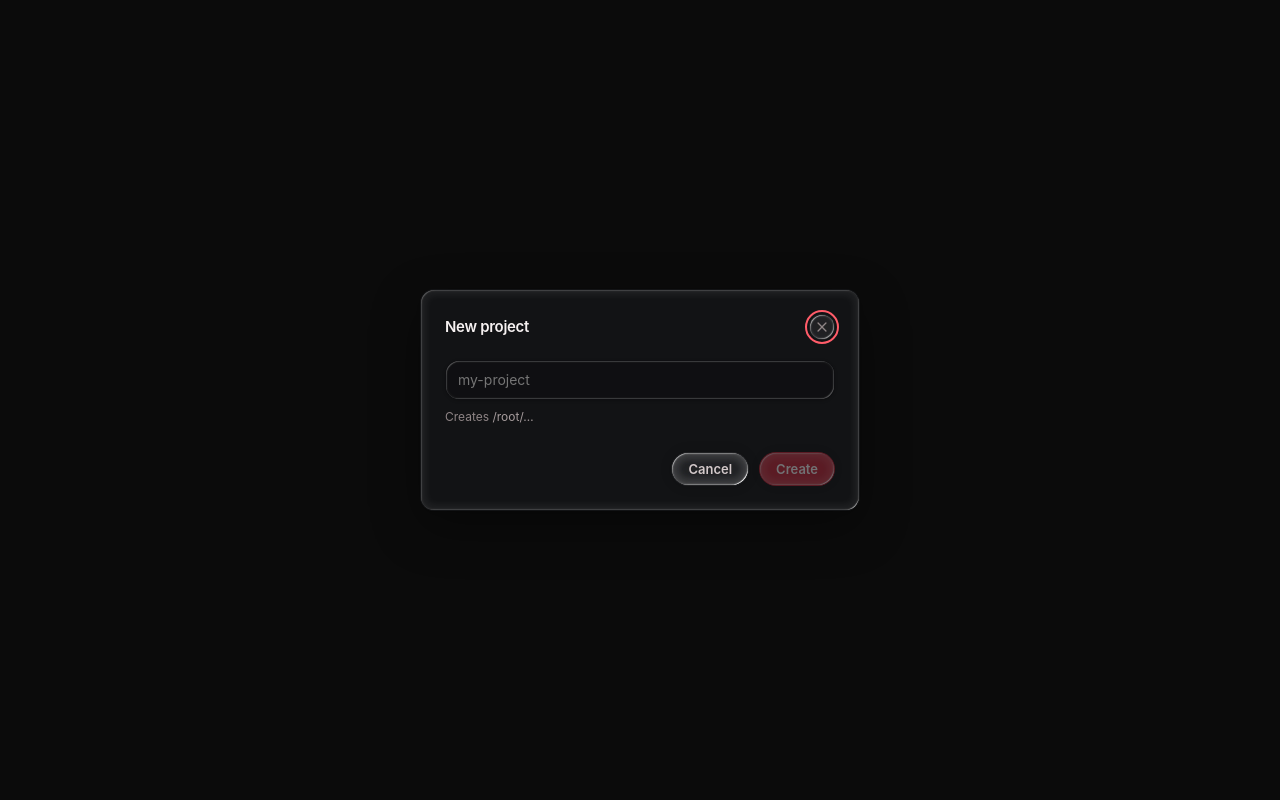
Test: NewProjectModal › goes back to creating when the name changes
The image size is (1280, 800).
Type "test" into the field with placeholder "my-project". click: (640, 380)
box: top-left (445, 360), bottom-right (835, 400)
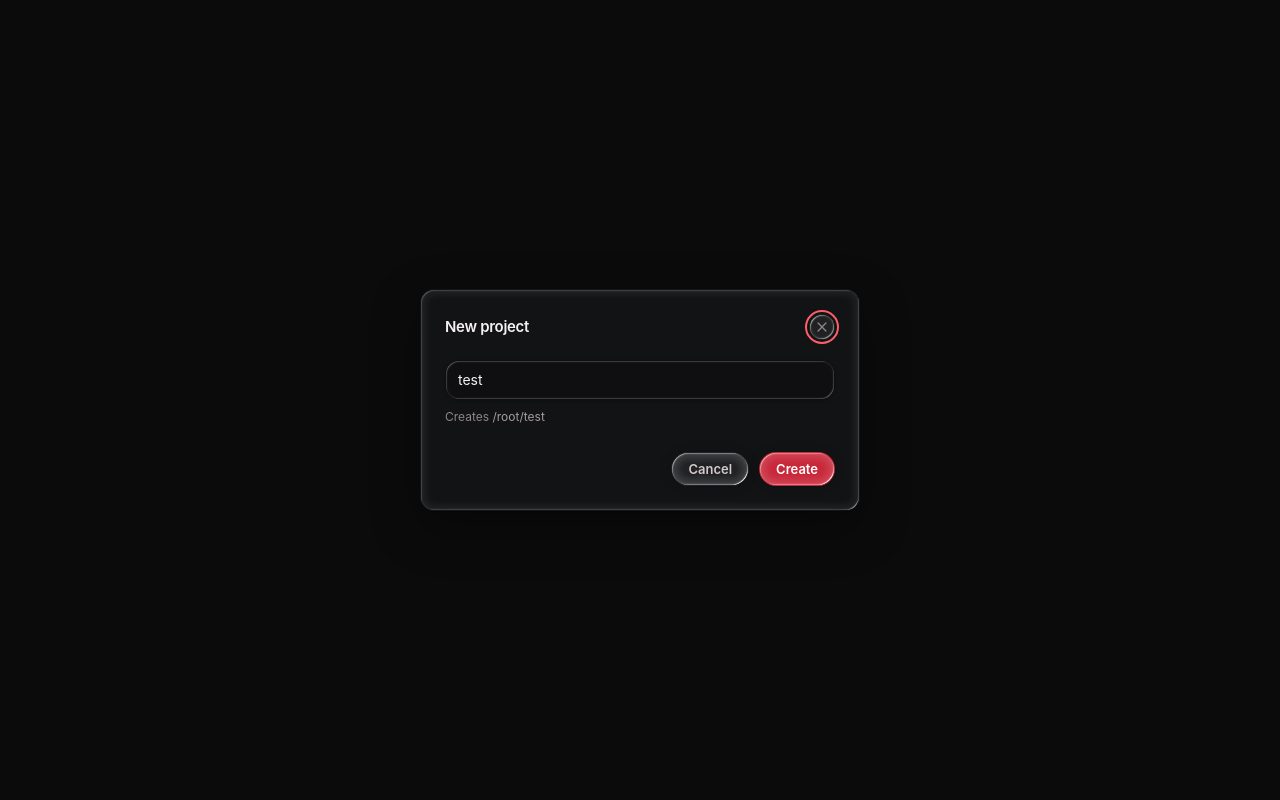
Click the button "Create". click: (797, 469)
box: top-left (759, 452), bottom-right (835, 486)
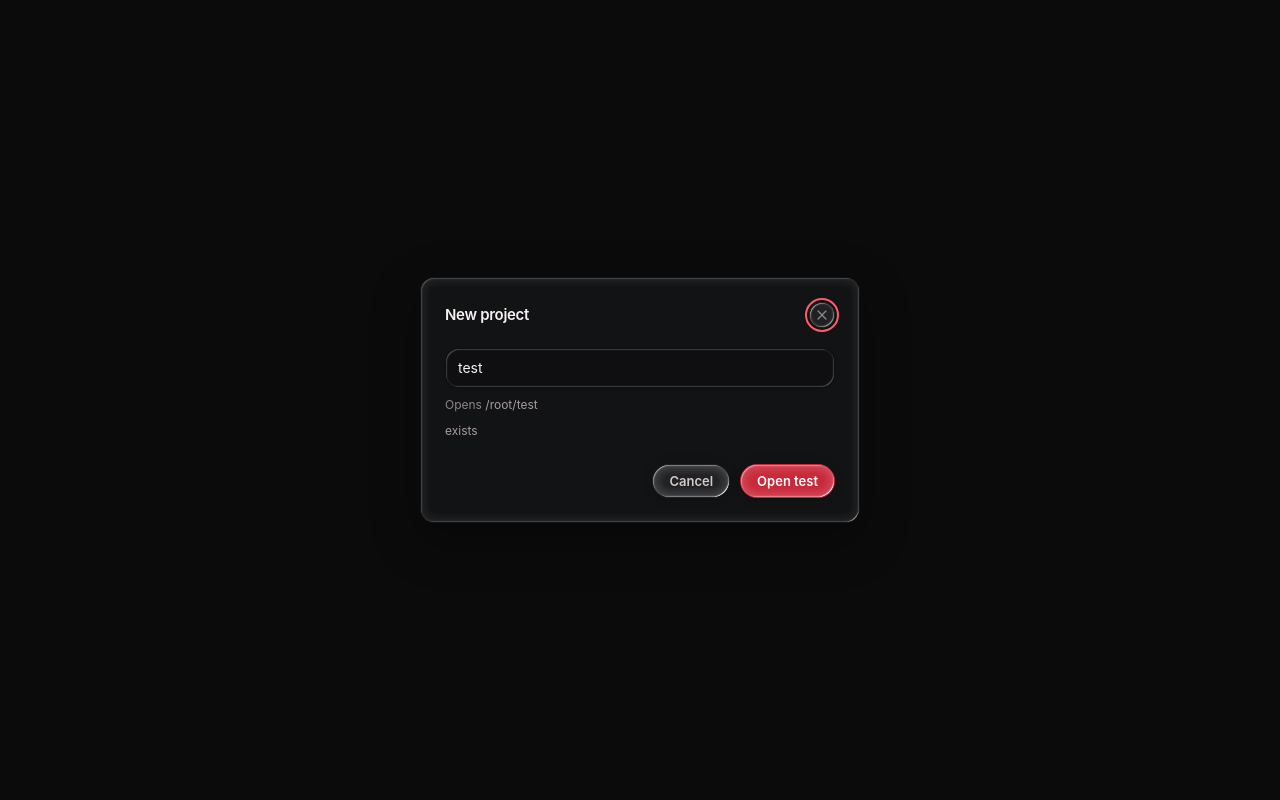
Result: the button "Open test" is shown at top-left (740, 464), bottom-right (835, 498)
Replace the text in the field with placeholder "my-project" with "other". click: (640, 368)
box: top-left (445, 348), bottom-right (835, 388)
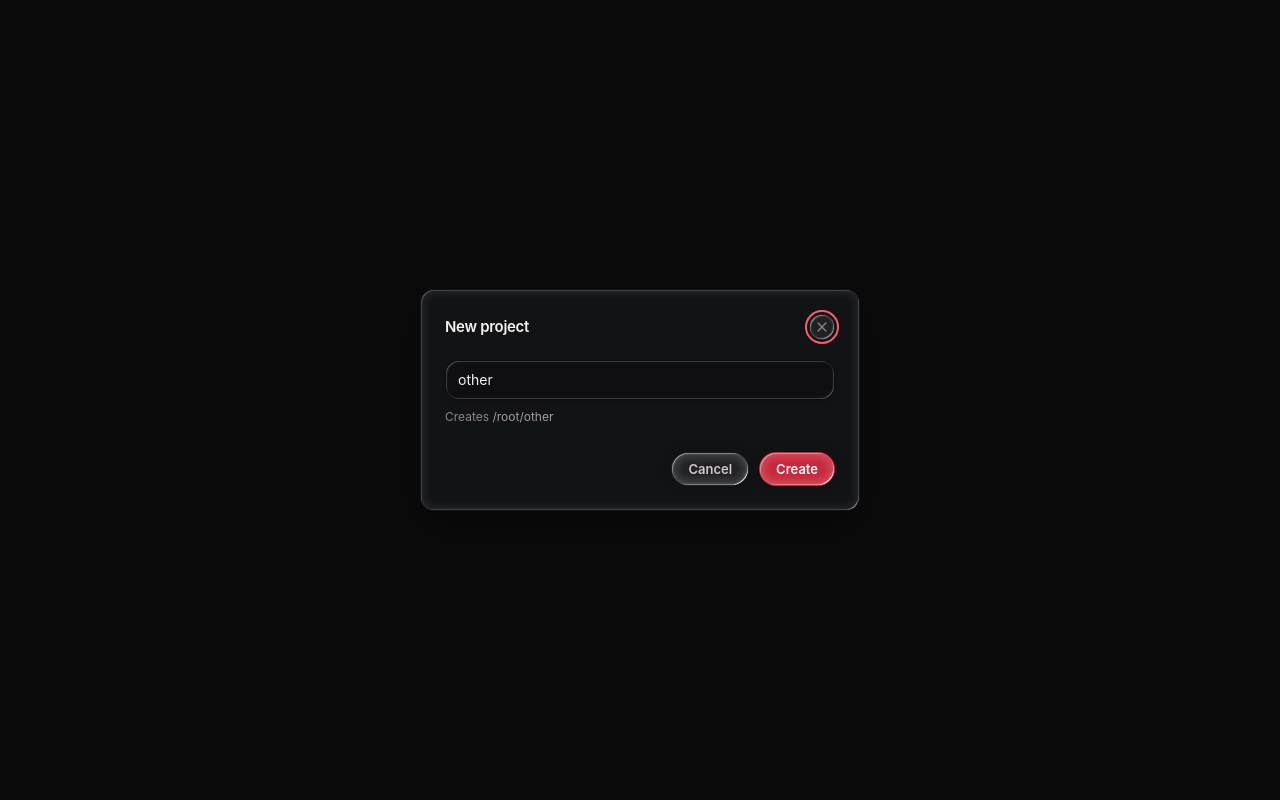
Result: the button "Create" is shown at top-left (759, 452), bottom-right (835, 486)
Result: the message "exists" is gone
